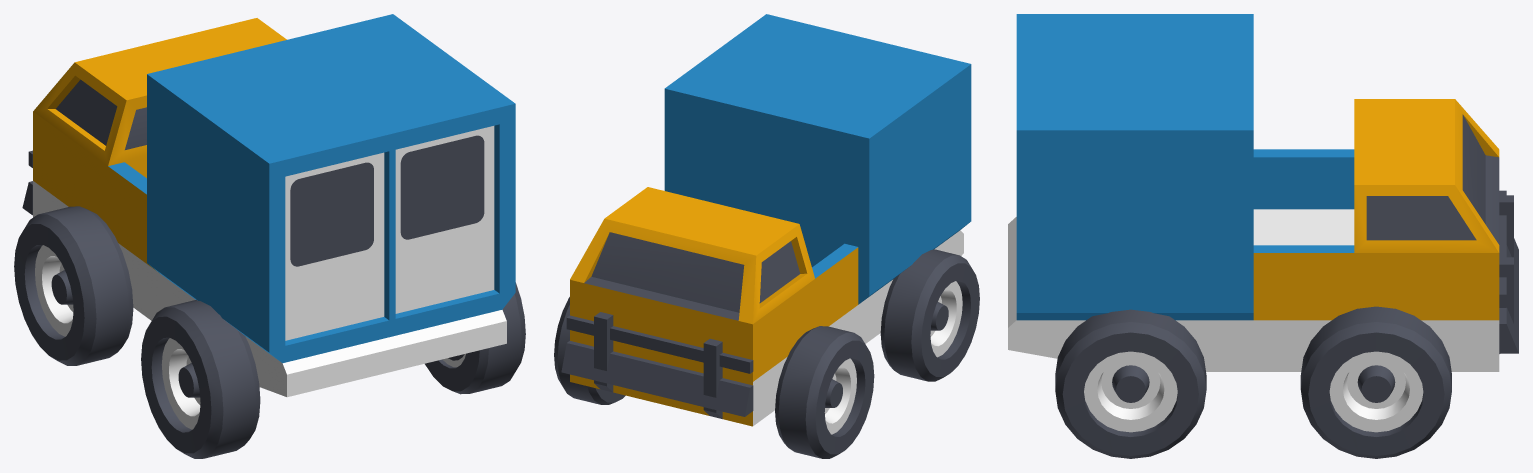
File: truck.fbx
The picture shows the model from 3 angles, left to right: view 1: azimuth 30°, elevation 25°; view 2: azimuth 150°, elevation 25°; view 3: azimuth 270°, elevation 25°; orthographic projection. The views are drawn at different scales.
Visible parts, largest first — view 1: trunk_truck_1, windshield_truck_0, wheel_truck_12, wheel_truck_13, wheel_truck_15; view 2: trunk_truck_1, windshield_truck_0, wheel_truck_12, detail_bullbar_16, wheel_truck_13, wheel_truck_14; view 3: trunk_truck_1, windshield_truck_0, wheel_truck_14, wheel_truck_15, detail_bullbar_16.
Part boxes in pixels (x1,y1,x2,y2): trunk_truck_1: (147,14,515,397); windshield_truck_0: (33,18,286,320); wheel_truck_12: (14,206,133,365); wheel_truck_13: (141,299,260,458); wheel_truck_15: (425,282,525,394); trunk_truck_1: (664,14,971,343); windshield_truck_0: (570,187,858,426); wheel_truck_12: (775,326,874,458); detail_bullbar_16: (561,312,753,418); wheel_truck_13: (880,249,979,381); wheel_truck_14: (554,297,625,404); trunk_truck_1: (1008,14,1253,371); windshield_truck_0: (1253,99,1499,371); wheel_truck_14: (1300,306,1451,458); wheel_truck_15: (1055,309,1206,458); detail_bullbar_16: (1499,190,1518,353).
Bounding box in the file's own units: 14.31 × 14.22 × 20.8.
